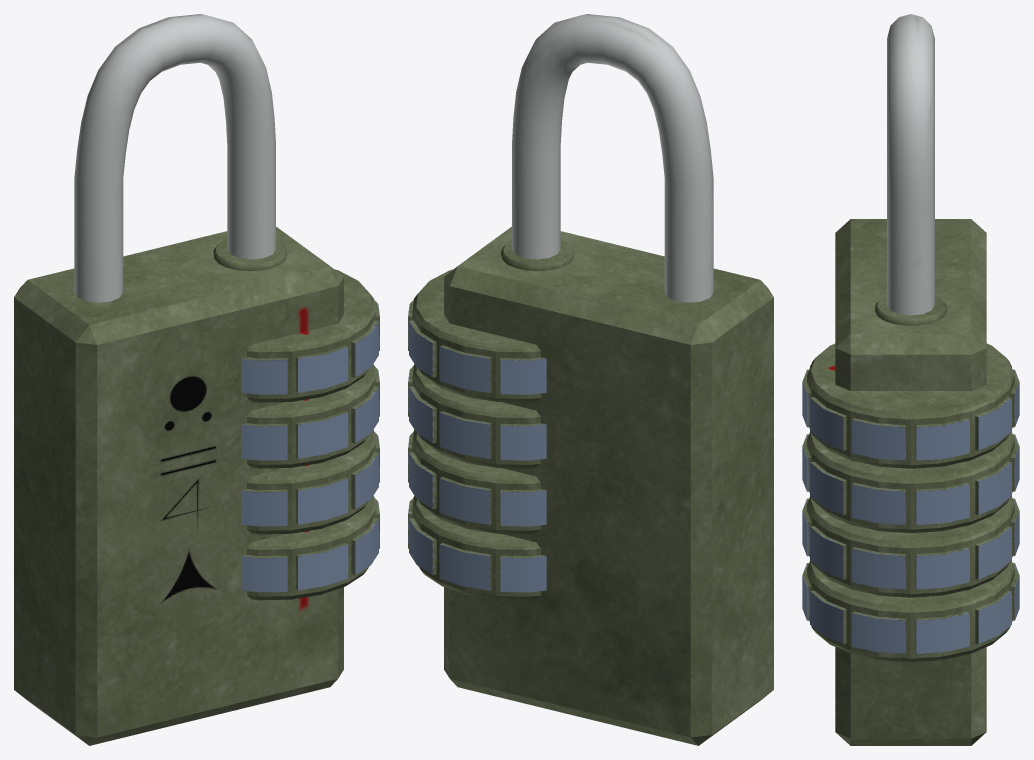
Rendered from cadenasTexture.fbx.
3 renders of one model, left to right at view 1: azimuth 30°, elevation 25°; view 2: azimuth 150°, elevation 25°; view 3: azimuth 270°, elevation 25°, orthographic. The views are drawn at different scales.
Parts seen in each view (by area): view 1: ChamferBox001; view 2: ChamferBox001; view 3: ChamferBox001.
Boxes of the visible parts, x1,y1,x2,y2 form: ChamferBox001: (14,14,379,745); ChamferBox001: (408,14,773,745); ChamferBox001: (802,14,1019,745).
Bounding box in the file's own units: 4.78 × 9.64 × 2.87.
Materials: 1 (1 with a texture image).
